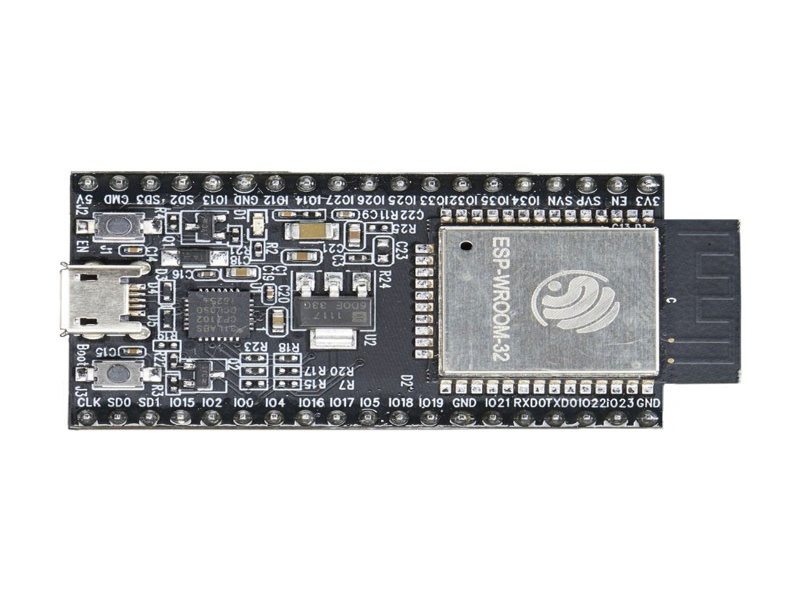esp32: (33, 113, 761, 445)
